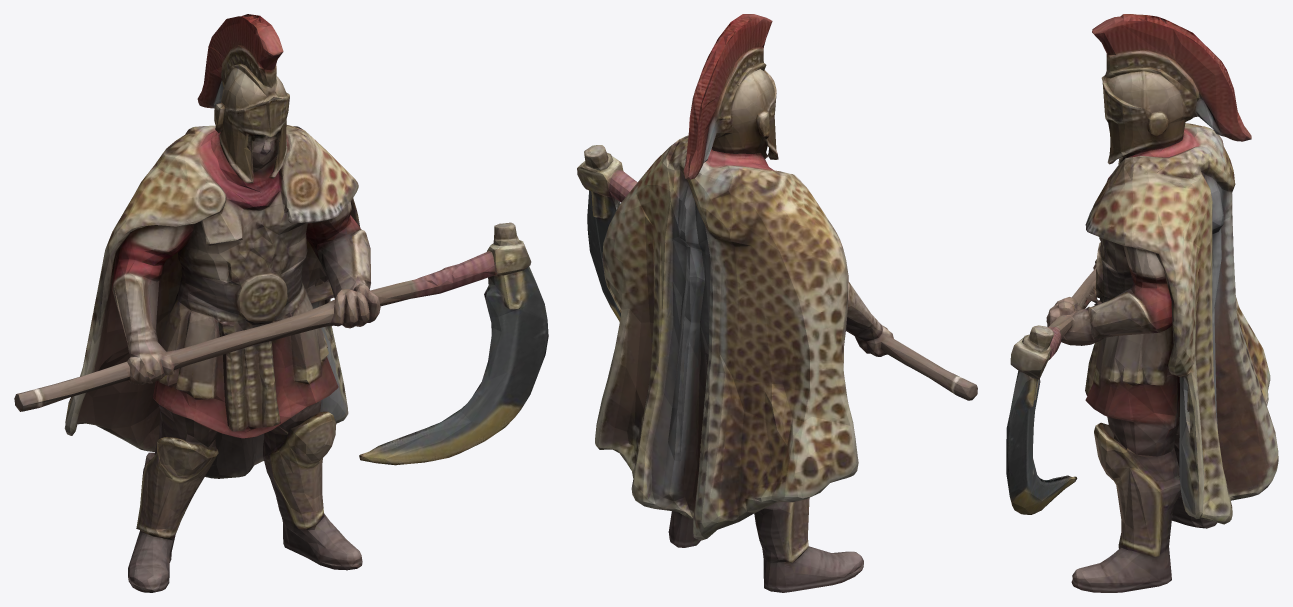
Rendered from scytheLegionary.glb.
3 renders of one model, left to right at view 1: azimuth 30°, elevation 25°; view 2: azimuth 150°, elevation 25°; view 3: azimuth 270°, elevation 25°, orthographic. The views are drawn at different scales.
Parts seen in each view (by area): view 1: world; view 2: world; view 3: world.
Part boxes in pixels (box(x1,y1,x2,y2)): world: box(14, 14, 548, 592); world: box(577, 14, 977, 592); world: box(1006, 14, 1278, 592).
Size of the model in its own units: 0.8956 by 1 by 0.4581.
Materials: 1 (1 with a texture image).
